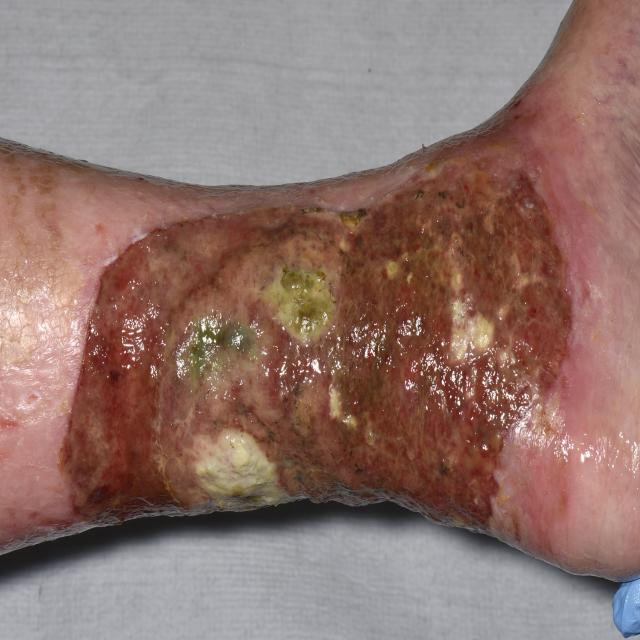wound: (56, 151, 574, 541)
